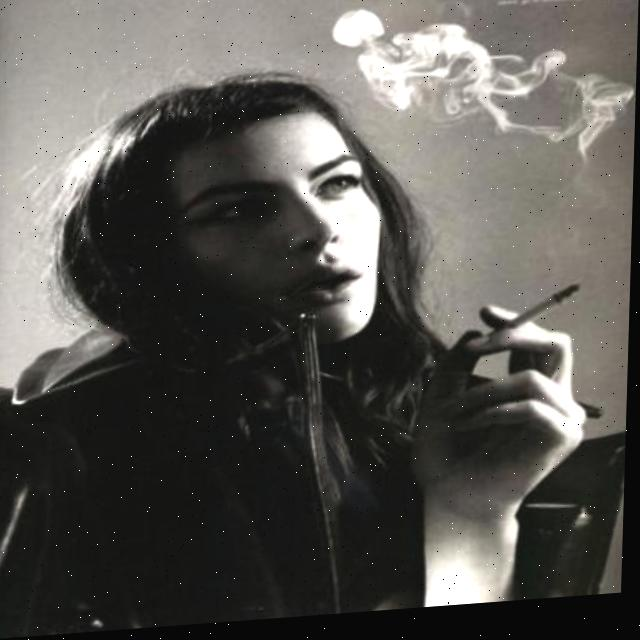cigarette: (490, 289, 583, 343)
